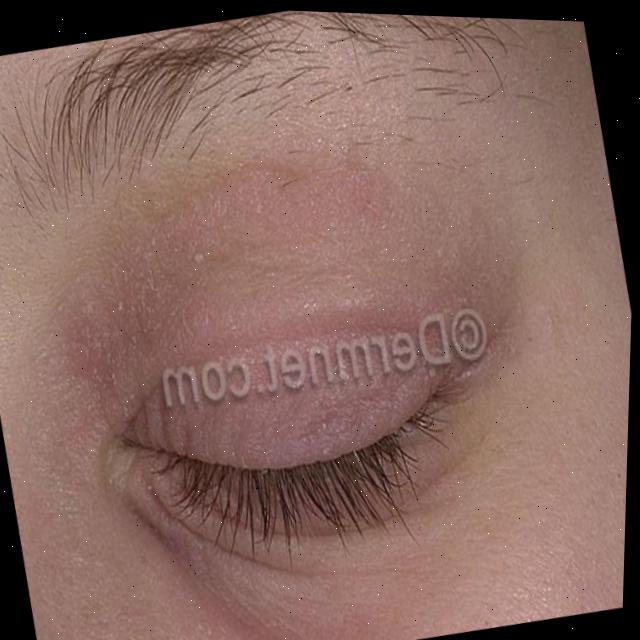Eczema: (45, 95, 492, 404)
